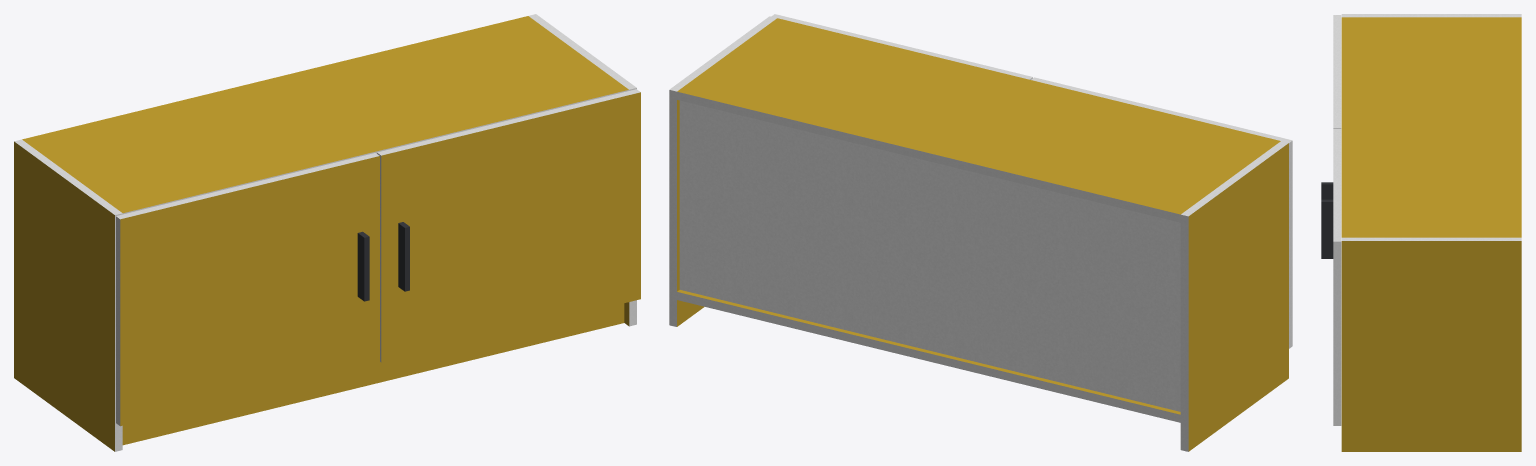
The model's file is FET-MED-short.glb.
The picture shows the model from 3 angles, left to right: view 1: azimuth 30°, elevation 25°; view 2: azimuth 150°, elevation 25°; view 3: azimuth 270°, elevation 25°; orthographic projection. The views are drawn at different scales.
Visible parts, largest first — view 1: door-r:pbr, door-l:pbr, top:pbr, side-l:pbr, plinth:pbr, pull, door-l:sheet:eyJtIjoibWRmIiwic2lkZSI6ImVkZ2UtbG9uZyIsInNlZWQ, door-r:sheet:eyJtIjoibWRmIiwic2lkZSI6ImVkZ2UtbG9uZyIsInNlZWQ, door-l:sheet:eyJtIjoibWRmIiwic2lkZSI6ImVkZ2UtZW5kIiwic2VlZCI, top:sheet:eyJtIjoibWRmIiwic2lkZSI6ImVkZ2UtbG9uZyIsInNlZWQiOj, side-l:sheet:eyJtIjoibWRmIiwic2lkZSI6ImVkZ2UtZW5kIiwic2VlZCI, side-r:sheet:eyJtIjoibWRmIiwic2lkZSI6ImVkZ2UtZW5kIiwic2VlZCI; view 2: back:sheet:eyJtIjoibWRmIiwic2lkZSI6ImZhY2UiLCJzZWVkIjoxLCJ0a, top:pbr, side-l:pbr, top:sheet:eyJtIjoibWRmIiwic2lkZSI6ImVkZ2UtbG9uZyIsInNlZWQiOj, bottom:sheet:eyJtIjoibWRmIiwic2lkZSI6ImVkZ2UtbG9uZyIsInNlZWQ, side-l:sheet:eyJtIjoibWRmIiwic2lkZSI6ImVkZ2UtbG9uZyIsInNlZWQ, side-r:sheet:eyJtIjoibWRmIiwic2lkZSI6ImVkZ2UtbG9uZyIsInNlZWQ, bottom:pbr, door-r:sheet:eyJtIjoibWRmIiwic2lkZSI6ImVkZ2UtbG9uZyIsInNlZWQ, door-l:sheet:eyJtIjoibWRmIiwic2lkZSI6ImVkZ2UtbG9uZyIsInNlZWQ, side-r:pbr, side-l:sheet:eyJtIjoibWRmIiwic2lkZSI6ImVkZ2UtZW5kIiwic2VlZCI (+2 smaller); view 3: top:pbr, side-r:pbr, door-r:sheet:eyJtIjoibWRmIiwic2lkZSI6ImVkZ2UtZW5kIiwic2VlZCI, door-r:sheet:eyJtIjoibWRmIiwic2lkZSI6ImVkZ2UtbG9uZyIsInNlZWQ, door-l:sheet:eyJtIjoibWRmIiwic2lkZSI6ImVkZ2UtbG9uZyIsInNlZWQ, pull, side-l:sheet:eyJtIjoibWRmIiwic2lkZSI6ImVkZ2UtZW5kIiwic2VlZCI, side-r:sheet:eyJtIjoibWRmIiwic2lkZSI6ImVkZ2UtZW5kIiwic2VlZCI.
Boxes of the visible parts, left/top/right/bottom form: door-r:pbr: left=381, top=92, right=640, bottom=362; door-l:pbr: left=120, top=156, right=379, bottom=425; top:pbr: left=22, top=16, right=628, bottom=213; side-l:pbr: left=14, top=141, right=114, bottom=451; plinth:pbr: left=122, top=303, right=624, bottom=445; pull: left=357, top=222, right=409, bottom=301; door-l:sheet:eyJtIjoibWRmIiwic2lkZSI6ImVkZ2UtbG9uZyIsInNlZWQ: left=116, top=153, right=379, bottom=219; door-r:sheet:eyJtIjoibWRmIiwic2lkZSI6ImVkZ2UtbG9uZyIsInNlZWQ: left=377, top=89, right=640, bottom=155; door-l:sheet:eyJtIjoibWRmIiwic2lkZSI6ImVkZ2UtZW5kIiwic2VlZCI: left=116, top=216, right=120, bottom=425; top:sheet:eyJtIjoibWRmIiwic2lkZSI6ImVkZ2UtbG9uZyIsInNlZWQiOj: left=122, top=90, right=629, bottom=214; side-l:sheet:eyJtIjoibWRmIiwic2lkZSI6ImVkZ2UtZW5kIiwic2VlZCI: left=14, top=139, right=122, bottom=214; side-r:sheet:eyJtIjoibWRmIiwic2lkZSI6ImVkZ2UtZW5kIiwic2VlZCI: left=529, top=14, right=636, bottom=89; back:sheet:eyJtIjoibWRmIiwic2lkZSI6ImZhY2UiLCJzZWVkIjoxLCJ0a: left=679, top=100, right=1180, bottom=411; top:pbr: left=677, top=18, right=1280, bottom=214; side-l:pbr: left=1188, top=143, right=1288, bottom=451; top:sheet:eyJtIjoibWRmIiwic2lkZSI6ImVkZ2UtbG9uZyIsInNlZWQiOj: left=677, top=91, right=1180, bottom=222; bottom:sheet:eyJtIjoibWRmIiwic2lkZSI6ImVkZ2UtbG9uZyIsInNlZWQ: left=677, top=292, right=1180, bottom=422; side-l:sheet:eyJtIjoibWRmIiwic2lkZSI6ImVkZ2UtbG9uZyIsInNlZWQ: left=1180, top=214, right=1188, bottom=451; side-r:sheet:eyJtIjoibWRmIiwic2lkZSI6ImVkZ2UtbG9uZyIsInNlZWQ: left=669, top=90, right=676, bottom=326; bottom:pbr: left=677, top=290, right=1180, bottom=414; door-r:sheet:eyJtIjoibWRmIiwic2lkZSI6ImVkZ2UtbG9uZyIsInNlZWQ: left=771, top=14, right=1032, bottom=79; door-l:sheet:eyJtIjoibWRmIiwic2lkZSI6ImVkZ2UtbG9uZyIsInNlZWQ: left=1031, top=77, right=1292, bottom=142; side-r:pbr: left=677, top=100, right=704, bottom=326; side-l:sheet:eyJtIjoibWRmIiwic2lkZSI6ImVkZ2UtZW5kIiwic2VlZCI: left=1181, top=141, right=1288, bottom=216; top:pbr: left=1341, top=17, right=1521, bottom=237; side-r:pbr: left=1341, top=241, right=1521, bottom=451; door-r:sheet:eyJtIjoibWRmIiwic2lkZSI6ImVkZ2UtZW5kIiwic2VlZCI: left=1333, top=241, right=1341, bottom=425; door-r:sheet:eyJtIjoibWRmIiwic2lkZSI6ImVkZ2UtbG9uZyIsInNlZWQ: left=1333, top=128, right=1341, bottom=241; door-l:sheet:eyJtIjoibWRmIiwic2lkZSI6ImVkZ2UtbG9uZyIsInNlZWQ: left=1333, top=15, right=1341, bottom=127; pull: left=1321, top=182, right=1333, bottom=258; side-l:sheet:eyJtIjoibWRmIiwic2lkZSI6ImVkZ2UtZW5kIiwic2VlZCI: left=1341, top=14, right=1521, bottom=17; side-r:sheet:eyJtIjoibWRmIiwic2lkZSI6ImVkZ2UtZW5kIiwic2VlZCI: left=1341, top=237, right=1521, bottom=240.
Size of the model in its own units: 1.2 by 0.52 by 0.4468.
Materials: 34 (23 with a texture image).
